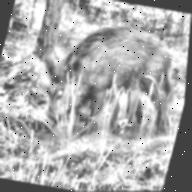boar: (33, 19, 189, 150)
